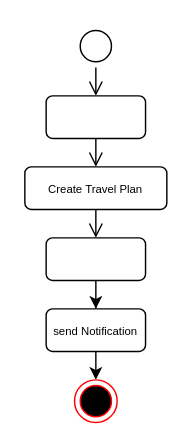
Image size: 192x447. Some labels were removed from this diagram. The shapes that lost their labels are listed below. From the top down, each one's centre as x and y in pixels, then its label:
(95,116): HR Login
(95,258): Assign Employee
